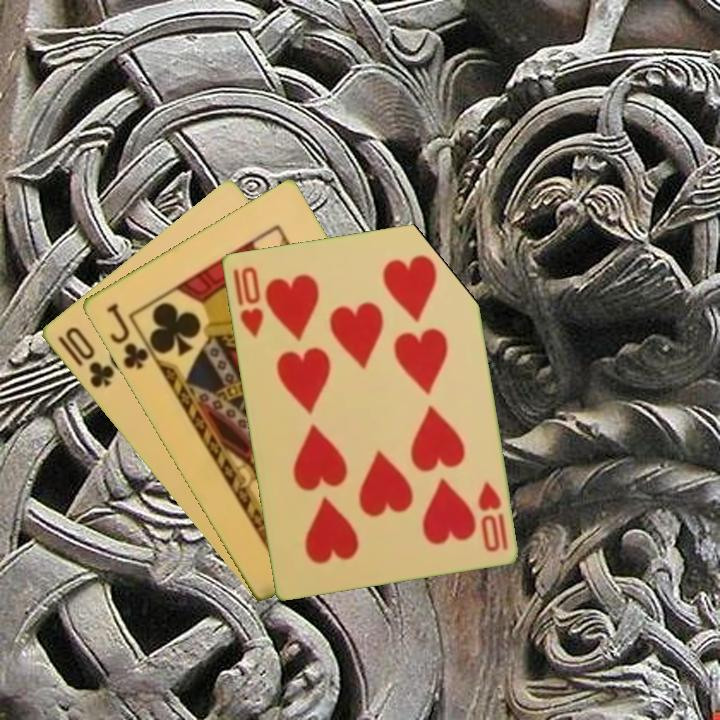10c: (53, 323, 117, 391)
10h: (228, 263, 266, 341), (473, 478, 510, 554)
Jc: (101, 299, 151, 373)
